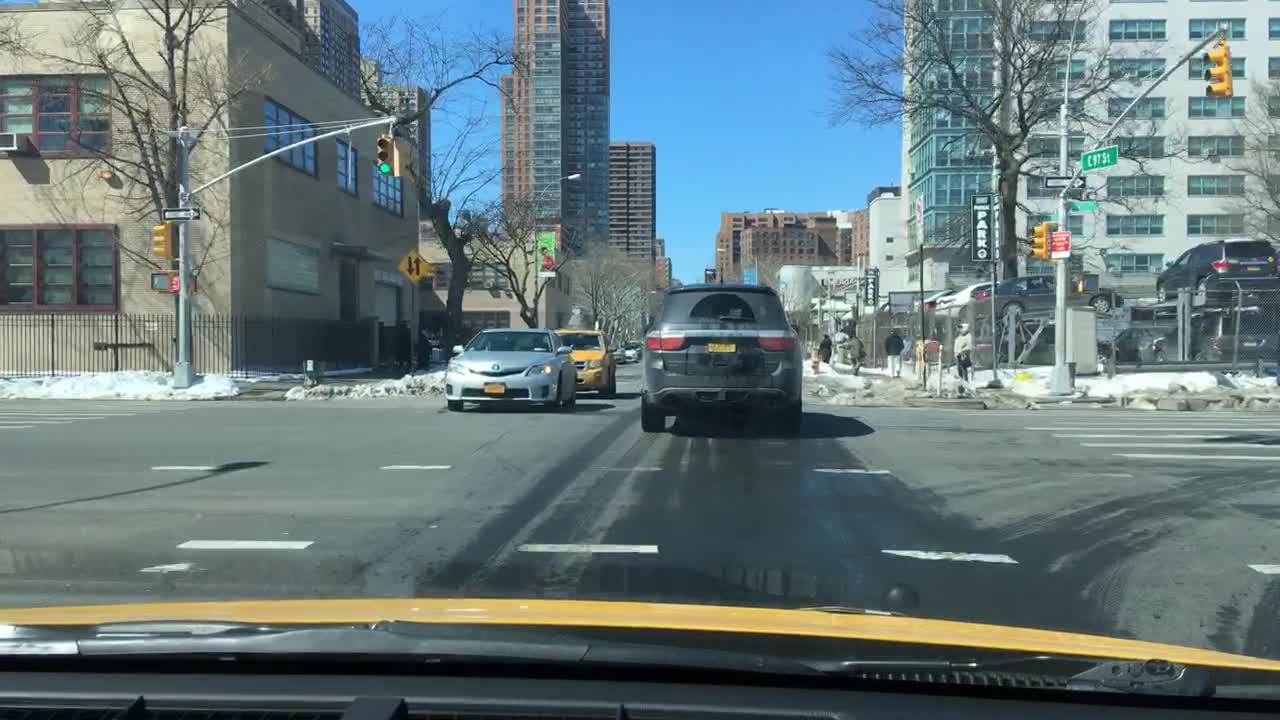car: (639, 263, 803, 430), (442, 327, 577, 410), (1149, 300, 1279, 366), (1154, 236, 1279, 300), (972, 317, 1115, 368), (967, 273, 1127, 312), (555, 327, 616, 396), (1110, 317, 1181, 368), (935, 278, 1000, 314), (914, 334, 955, 368), (909, 285, 953, 314), (896, 337, 918, 358), (622, 342, 641, 366), (607, 342, 624, 363), (634, 339, 644, 354)
person: (388, 317, 418, 369), (950, 320, 972, 380), (838, 329, 864, 374), (884, 326, 903, 380), (413, 324, 433, 368), (816, 327, 832, 363)
traffic light: (1203, 39, 1232, 99), (1027, 221, 1046, 260), (374, 133, 390, 177), (395, 138, 411, 172), (147, 273, 175, 292), (1073, 273, 1097, 293), (152, 226, 167, 256)
traffic sign: (395, 246, 432, 285), (1080, 147, 1117, 167), (1049, 226, 1070, 260), (1043, 172, 1083, 189), (160, 206, 199, 221), (1070, 199, 1098, 214)
